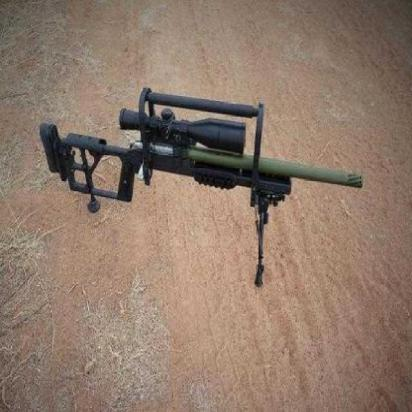Gun: (31, 83, 371, 290)
